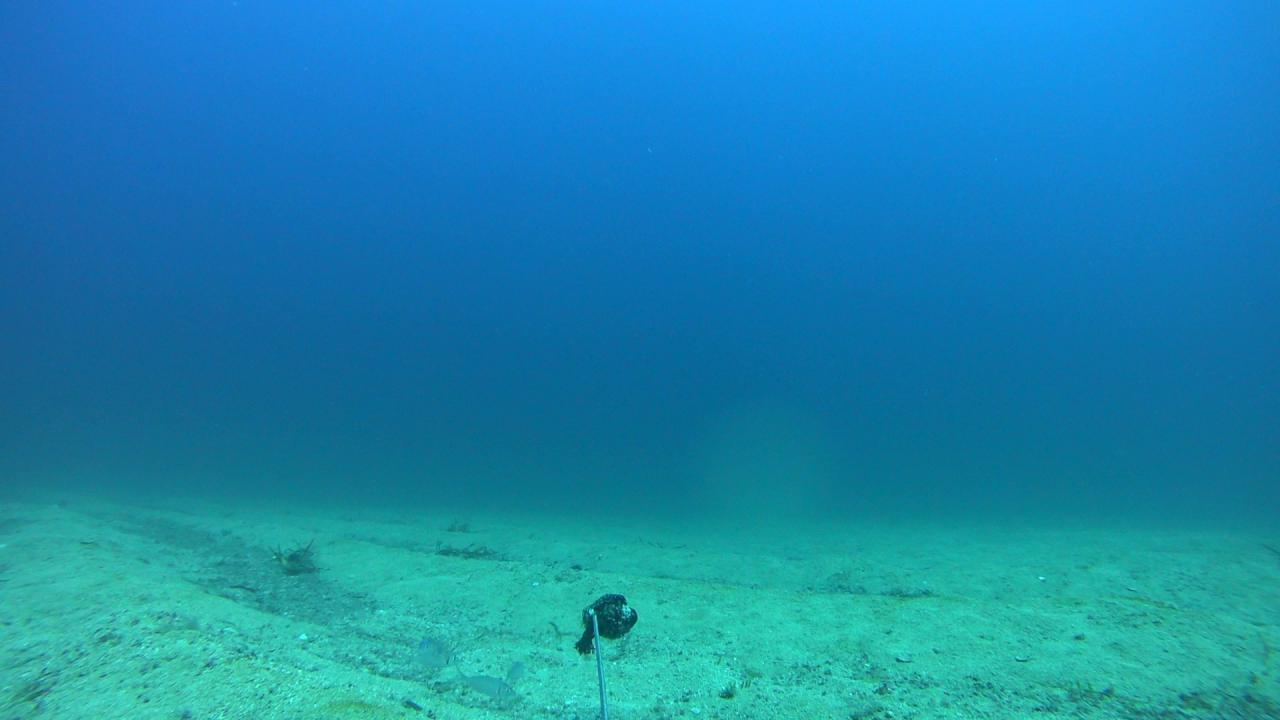pagellus: (451, 665, 519, 700), (402, 650, 454, 669)
